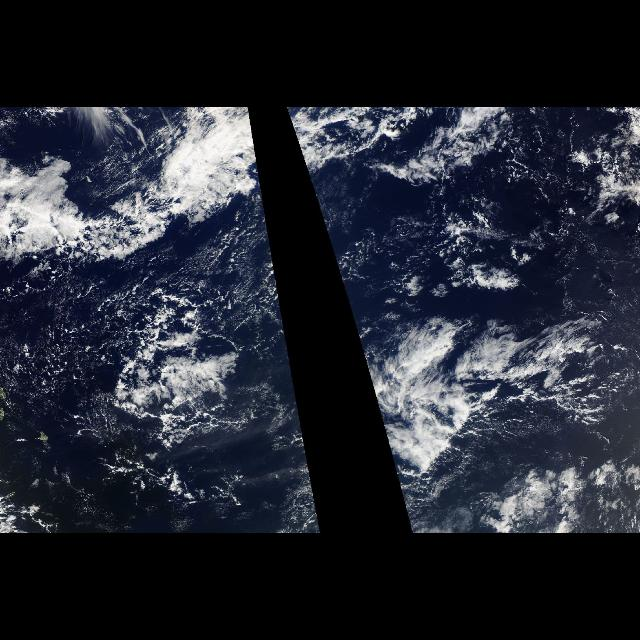Fish: (4, 115, 278, 452), (362, 308, 634, 462), (285, 115, 383, 282)
Gravel: (24, 260, 264, 452)
